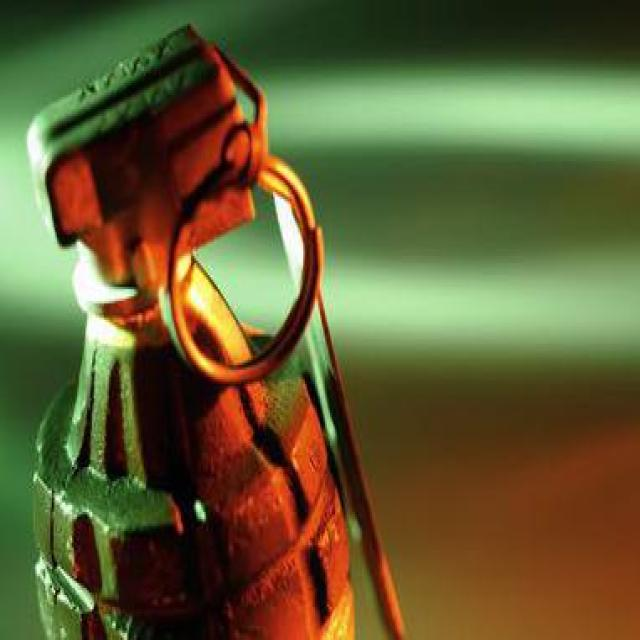grenade: (26, 22, 410, 639)
